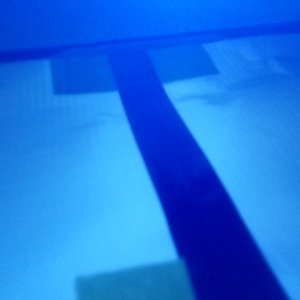bottom_left: (50, 47, 147, 95)
bottom_right: (115, 39, 219, 83)
top_left: (76, 258, 264, 300)
